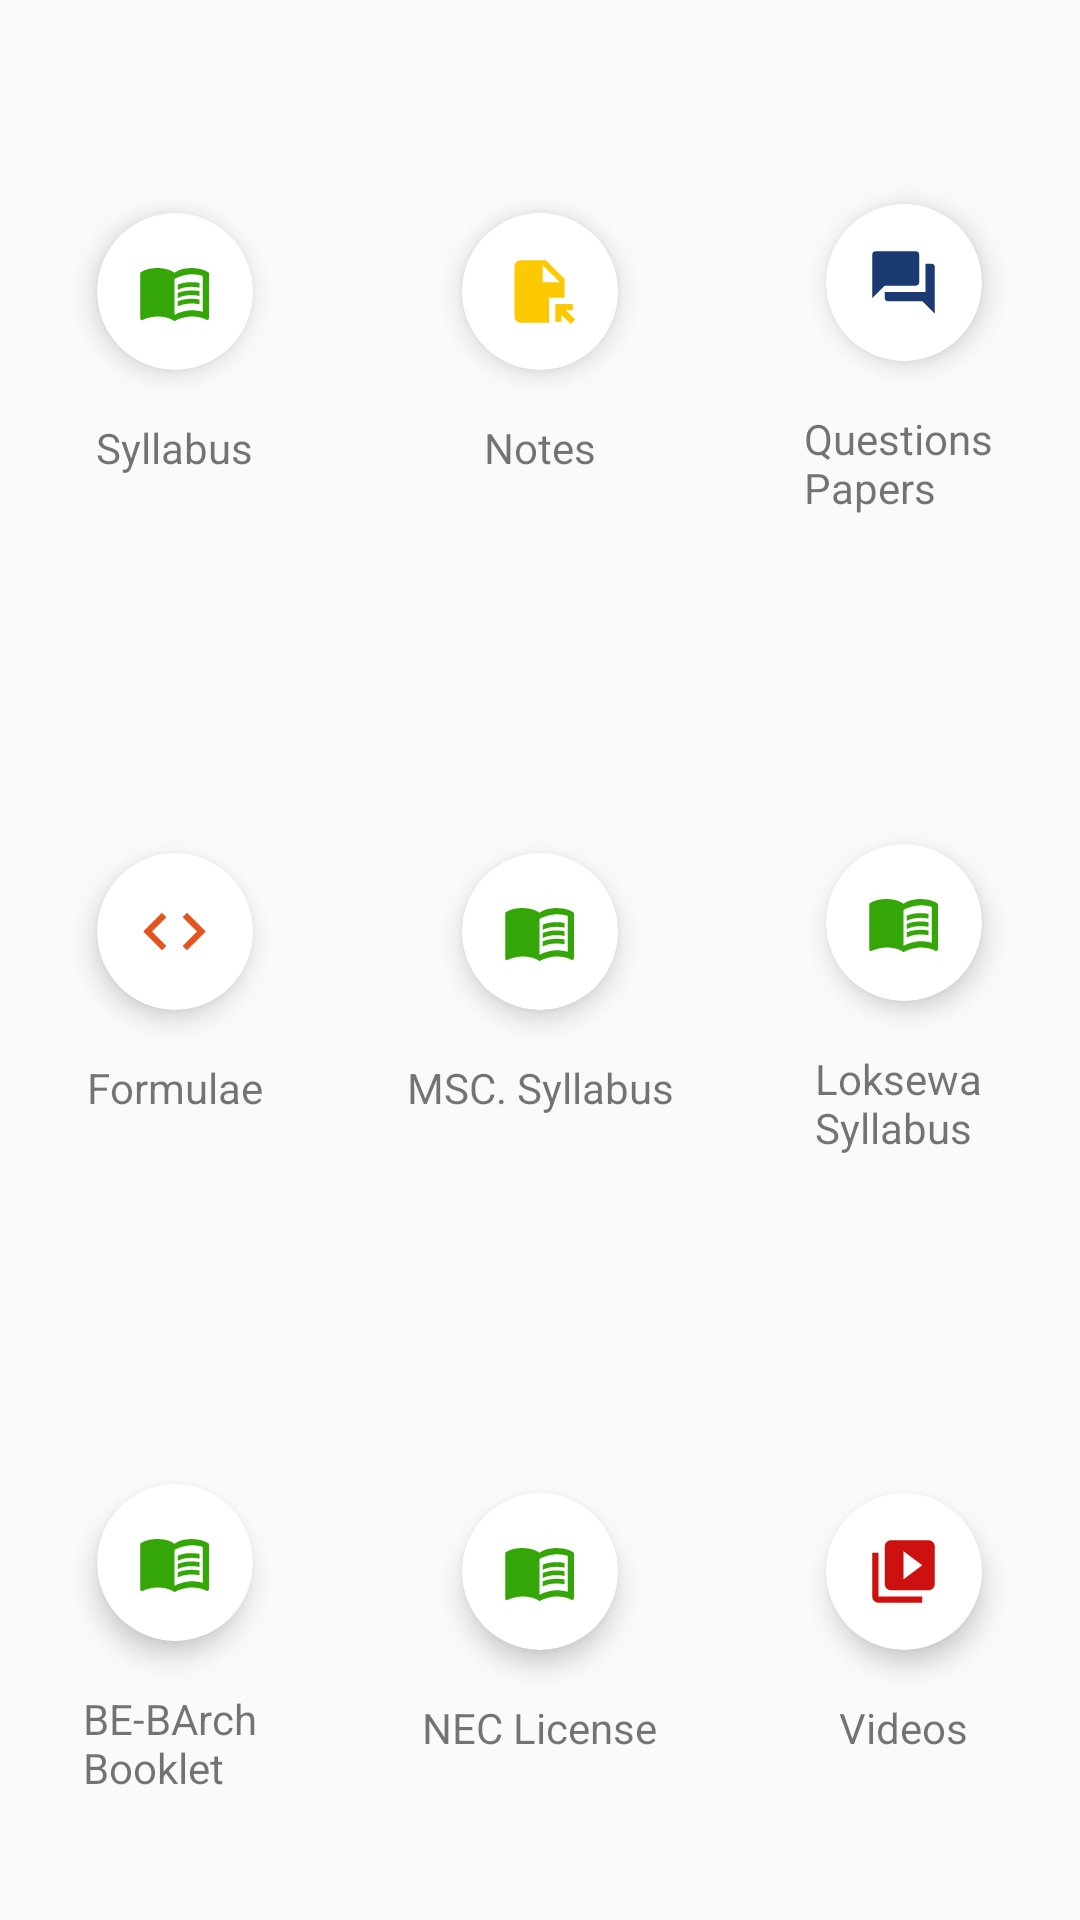

Icon bounding boxes for this 1080 x 1920 phone screenshot, format (x1, y1, x2, y2):
This is questions section: (872, 251, 935, 314)
video library: (872, 1540, 935, 1603)
